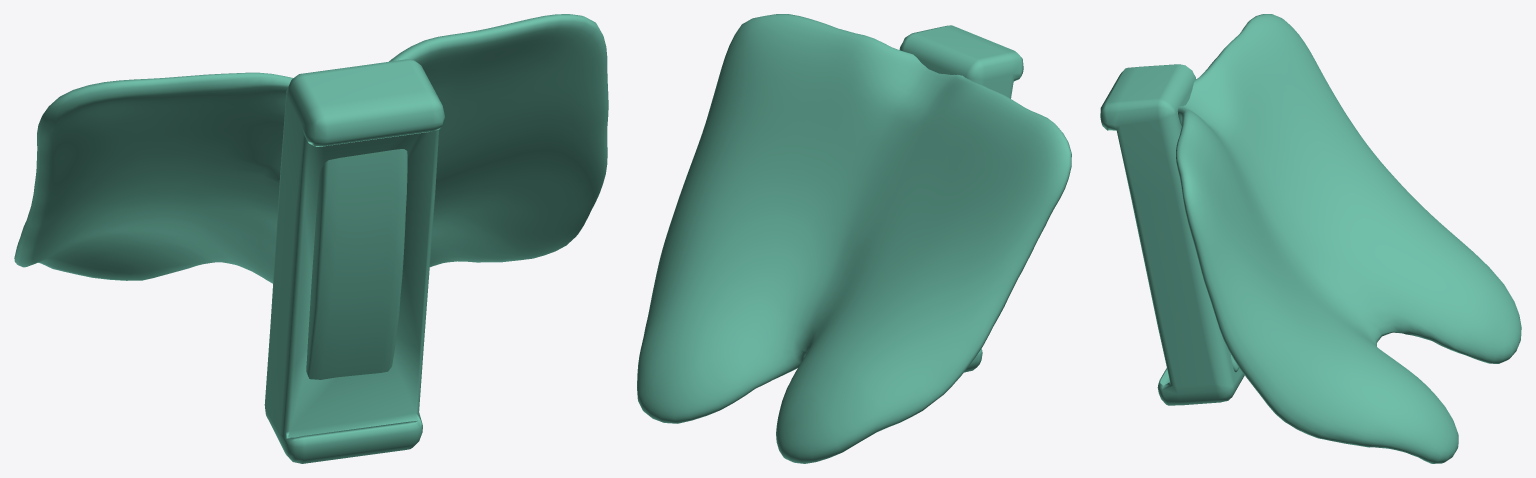
Rendered from BL1_Spacers_BaguetteMetal.001.glb.
3 views of the same model, side by side, from view 1: azimuth 30°, elevation 25°; view 2: azimuth 150°, elevation 25°; view 3: azimuth 270°, elevation 25° (orthographic). The views are drawn at different scales.
Visible parts, largest first — view 1: BL1_Spacers_BaguetteMetal.001; view 2: BL1_Spacers_BaguetteMetal.001; view 3: BL1_Spacers_BaguetteMetal.001.
Boxes of the visible parts, box(x1,y1,x2,y2) form: BL1_Spacers_BaguetteMetal.001: box(14, 14, 608, 463); BL1_Spacers_BaguetteMetal.001: box(637, 14, 1071, 463); BL1_Spacers_BaguetteMetal.001: box(1100, 14, 1521, 463).
Bounding box in the file's own units: 1.03 × 0.7371 × 0.9184.
